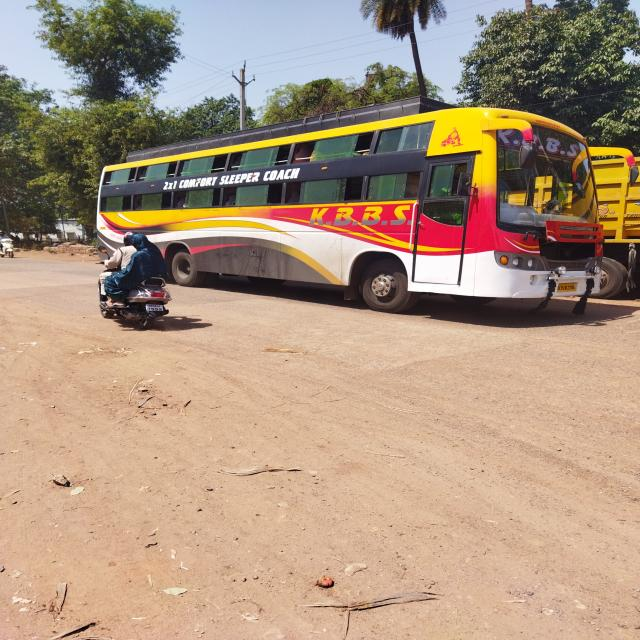Bus: (97, 98, 603, 312)
Two Wheeler: (97, 98, 605, 312), (103, 234, 167, 306)
